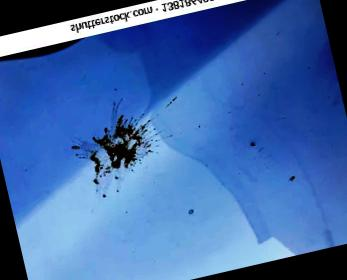Bird Poop: (72, 112, 159, 185), (165, 97, 175, 108), (290, 178, 295, 182), (188, 210, 191, 215)
